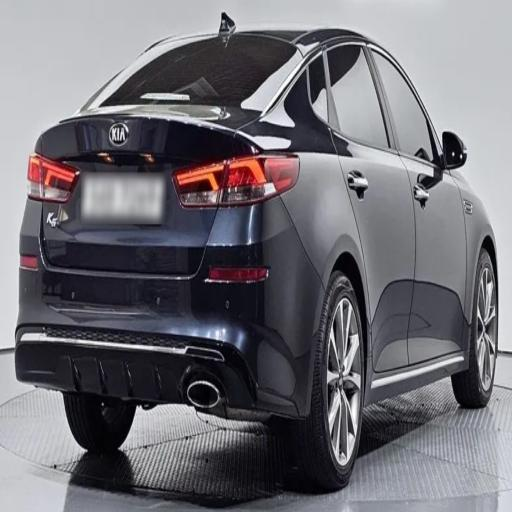normal: (10, 6, 506, 489)
